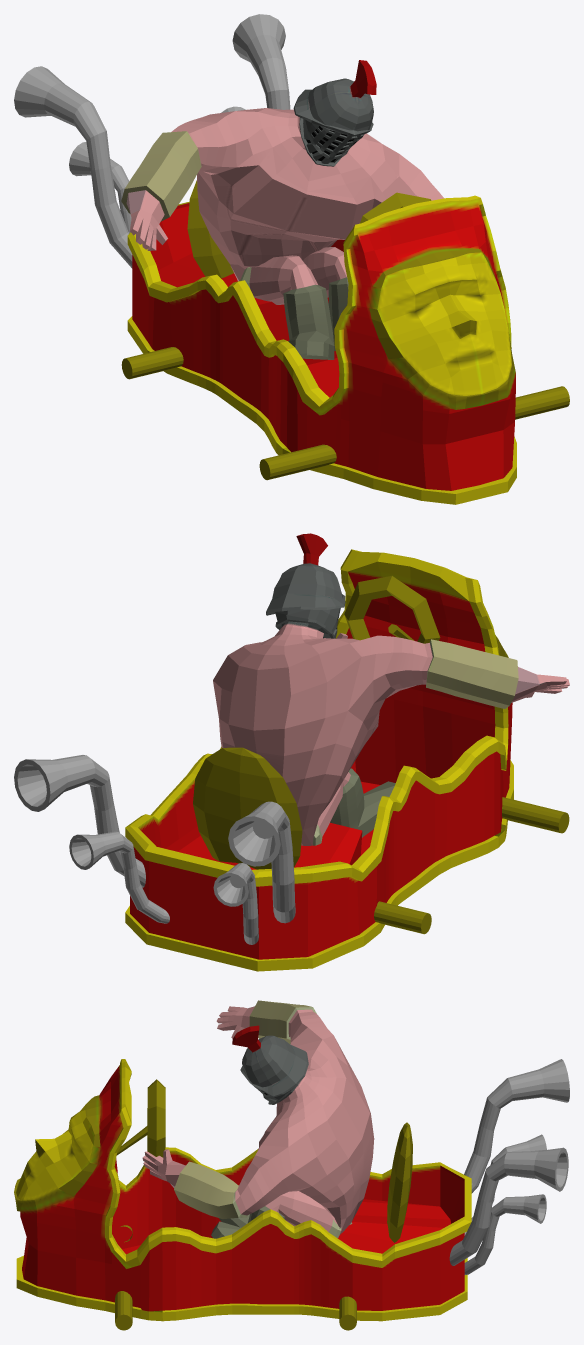
The model's file is gladiVacile_000561.obj.
The picture shows the model from 3 angles, top to bottom: view 1: azimuth 30°, elevation 25°; view 2: azimuth 150°, elevation 25°; view 3: azimuth 270°, elevation 25°; orthographic projection. The views are drawn at different scales.
Parts seen in each view (by area): view 1: GladiChasis_GladiChasisH, Gadiador_Gladiador_H.001, GladiTubos_GladiTubosH, GladiVolante_GladiVolanteH; view 2: GladiChasis_GladiChasisH, Gadiador_Gladiador_H.001, GladiTubos_GladiTubosH, GladiVolante_GladiVolanteH; view 3: GladiChasis_GladiChasisH, Gadiador_Gladiador_H.001, GladiTubos_GladiTubosH, GladiVolante_GladiVolanteH.
Part boxes in pixels (<box>): GladiChasis_GladiChasisH: <box>127,195,516,504</box>; Gadiador_Gladiador_H.001: <box>121,60,443,359</box>; GladiTubos_GladiTubosH: <box>14,14,290,268</box>; GladiVolante_GladiVolanteH: <box>121,180,569,480</box>; GladiChasis_GladiChasisH: <box>125,549,513,971</box>; Gadiador_Gladiador_H.001: <box>213,533,569,845</box>; GladiTubos_GladiTubosH: <box>14,755,295,944</box>; GladiVolante_GladiVolanteH: <box>193,576,569,934</box>; GladiChasis_GladiChasisH: <box>14,1059,471,1321</box>; Gadiador_Gladiador_H.001: <box>142,1000,374,1238</box>; GladiTubos_GladiTubosH: <box>449,1059,569,1274</box>; GladiVolante_GladiVolanteH: <box>115,1079,412,1330</box>.
Size of the model in its own units: 6.72 by 5.62 by 10.78.
